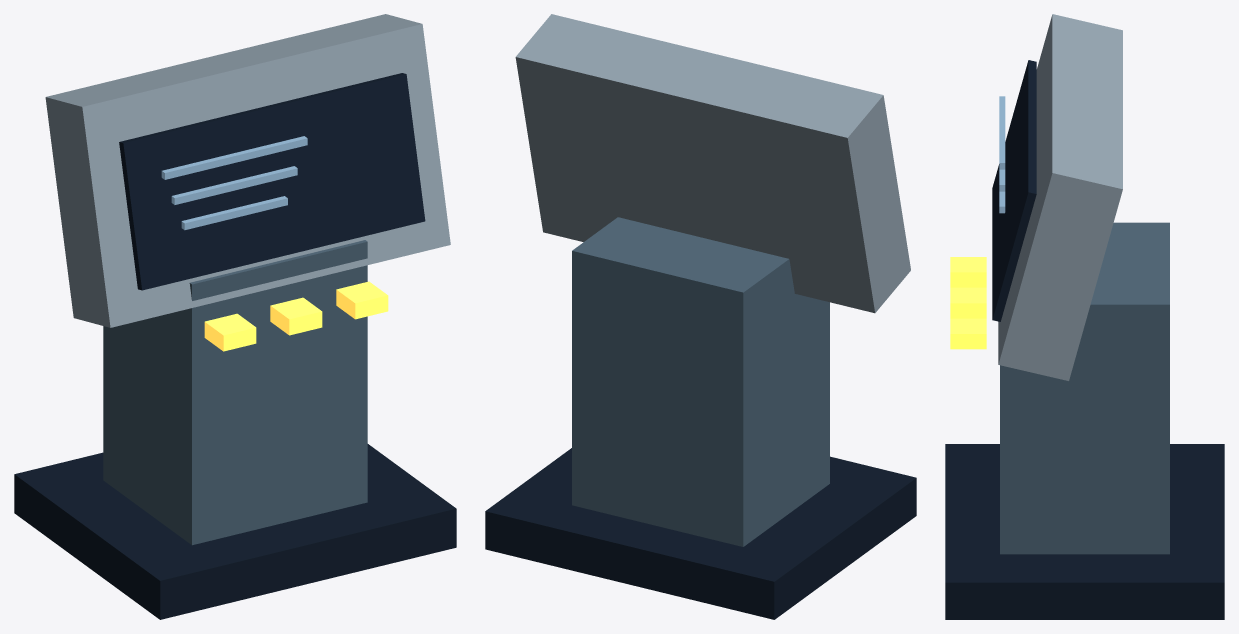
Rendered from device-console.glb.
The picture shows the model from 3 angles, left to right: view 1: azimuth 30°, elevation 25°; view 2: azimuth 150°, elevation 25°; view 3: azimuth 270°, elevation 25°; orthographic projection. The views are drawn at different scales.
Parts seen in each view (by area): view 1: console-pedestal, console-head, screen, console-foot, console-key (×3), state-light (×3); view 2: console-head, console-pedestal, console-foot; view 3: console-pedestal, console-foot, console-head, screen, console-key (×3), state-light.
Boxes of the visible parts, x1,y1,x2,y2 form: console-pedestal: [103, 240, 367, 545]; console-head: [45, 14, 450, 327]; screen: [119, 73, 425, 290]; console-foot: [14, 444, 456, 619]; console-key (×3): [204, 281, 388, 351]; state-light (×3): [161, 136, 307, 230]; console-head: [515, 14, 910, 313]; console-pedestal: [572, 217, 829, 546]; console-foot: [485, 448, 916, 619]; console-pedestal: [1000, 222, 1169, 554]; console-foot: [945, 444, 1224, 619]; console-head: [998, 14, 1122, 380]; screen: [992, 60, 1036, 321]; console-key (×3): [950, 257, 986, 349]; state-light: [999, 96, 1005, 169].
Bounding box in the file's own units: 1.55 × 2.08 × 1.15.
